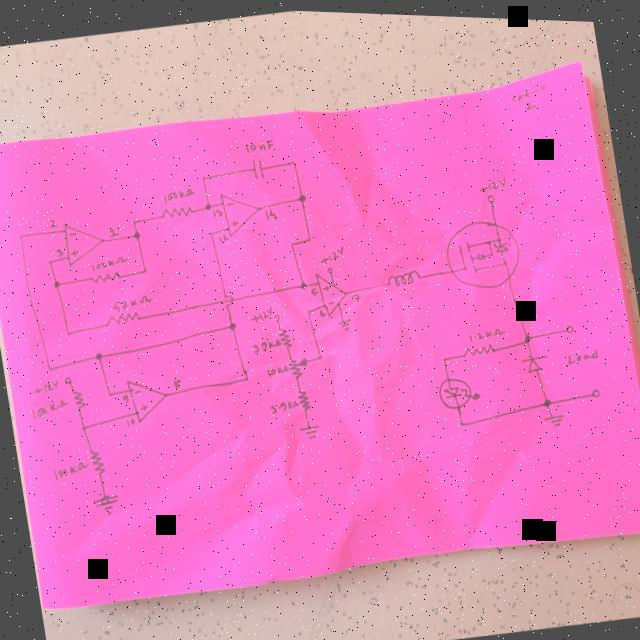capacitor: (248, 152, 266, 181)
crossover: (220, 290, 236, 307)
diode: (434, 368, 486, 410), (520, 347, 550, 371)
ground: (90, 490, 124, 519), (542, 406, 568, 427), (298, 420, 322, 440), (336, 314, 354, 331)
inductor: (384, 266, 422, 286)
junction: (520, 328, 534, 342), (541, 392, 554, 405), (226, 317, 239, 330), (296, 190, 308, 201), (51, 278, 62, 290), (44, 256, 56, 267), (93, 350, 104, 361), (104, 388, 116, 398), (203, 200, 213, 211), (131, 229, 141, 239), (298, 278, 308, 288), (288, 155, 298, 165), (457, 415, 466, 425), (439, 351, 448, 361), (140, 265, 150, 274), (129, 216, 138, 226), (303, 304, 312, 314), (198, 172, 207, 182), (206, 227, 216, 236), (316, 350, 325, 359), (45, 365, 54, 374), (288, 237, 296, 247), (16, 231, 24, 241), (80, 423, 88, 432), (64, 328, 72, 337), (306, 233, 314, 241), (242, 373, 250, 381)
resistor: (105, 307, 144, 327), (160, 200, 196, 220), (462, 336, 498, 356), (88, 445, 108, 478), (90, 266, 124, 285), (286, 353, 310, 377), (68, 385, 88, 412), (276, 323, 294, 347), (296, 385, 312, 410)
terminal: (588, 382, 604, 396), (562, 318, 575, 331), (484, 189, 497, 201), (324, 262, 336, 272), (272, 311, 282, 320), (64, 375, 72, 385)
text: (49, 456, 92, 482), (110, 290, 156, 313), (30, 397, 72, 421), (465, 320, 507, 341), (88, 251, 130, 271), (316, 241, 348, 266), (159, 184, 197, 204), (248, 332, 282, 354), (564, 342, 601, 362), (476, 171, 510, 191), (243, 134, 276, 154), (266, 395, 298, 414), (31, 377, 62, 396), (248, 303, 276, 324), (264, 360, 288, 376), (263, 205, 279, 221), (46, 215, 59, 230), (106, 225, 120, 237), (218, 230, 230, 243), (53, 246, 65, 258), (119, 392, 131, 404), (212, 206, 224, 217), (351, 290, 362, 301), (125, 417, 136, 428), (172, 376, 182, 388), (308, 284, 318, 295), (318, 305, 326, 314)
transistor: (439, 208, 529, 291)
